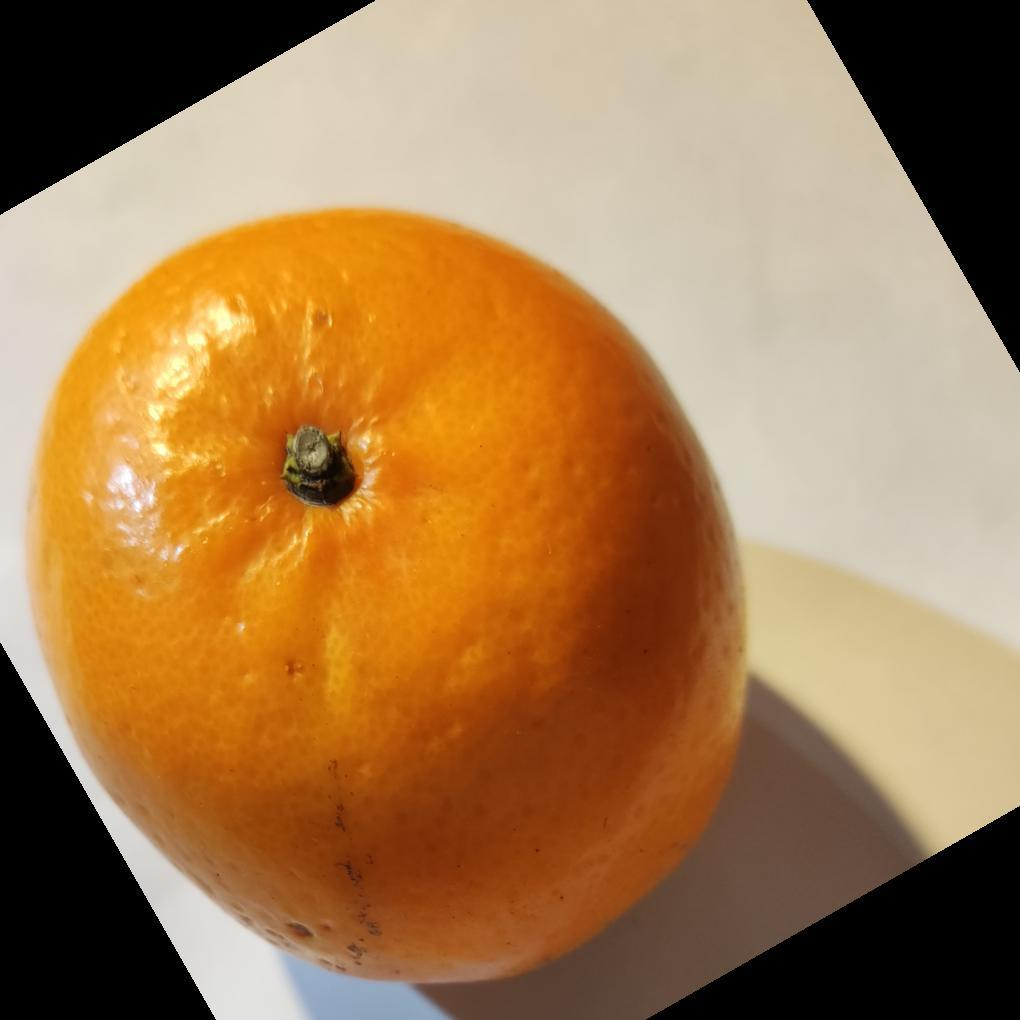FreshGuava: (18, 207, 752, 990)
